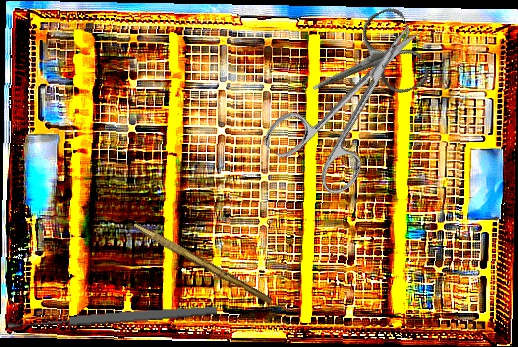Iris Scissors: (259, 0, 453, 205), (295, 3, 433, 127)
Scalpel Handle: (130, 221, 275, 306)
Surgical Spoon: (7, 303, 218, 332)
